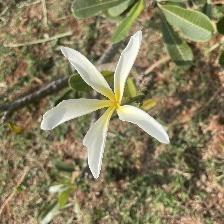champaka: (42, 31, 177, 181)
